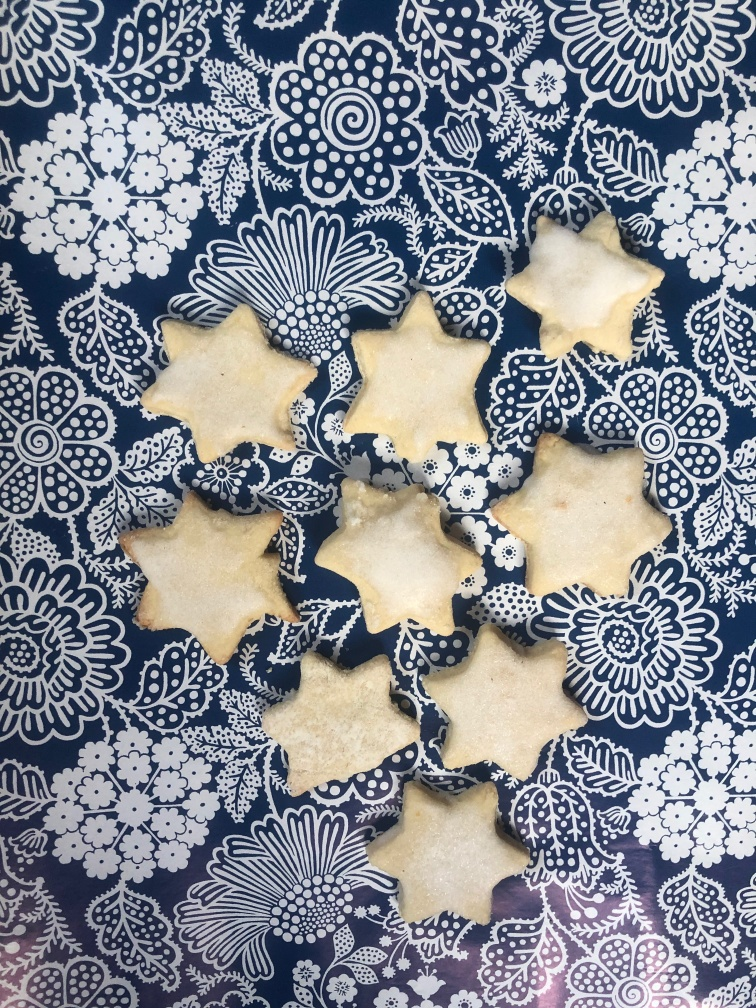star: (109, 478, 298, 666), (485, 425, 680, 601), (135, 296, 316, 466), (338, 283, 492, 474), (309, 474, 486, 639), (363, 777, 544, 932), (504, 205, 677, 360), (424, 623, 586, 780), (255, 645, 420, 797)
